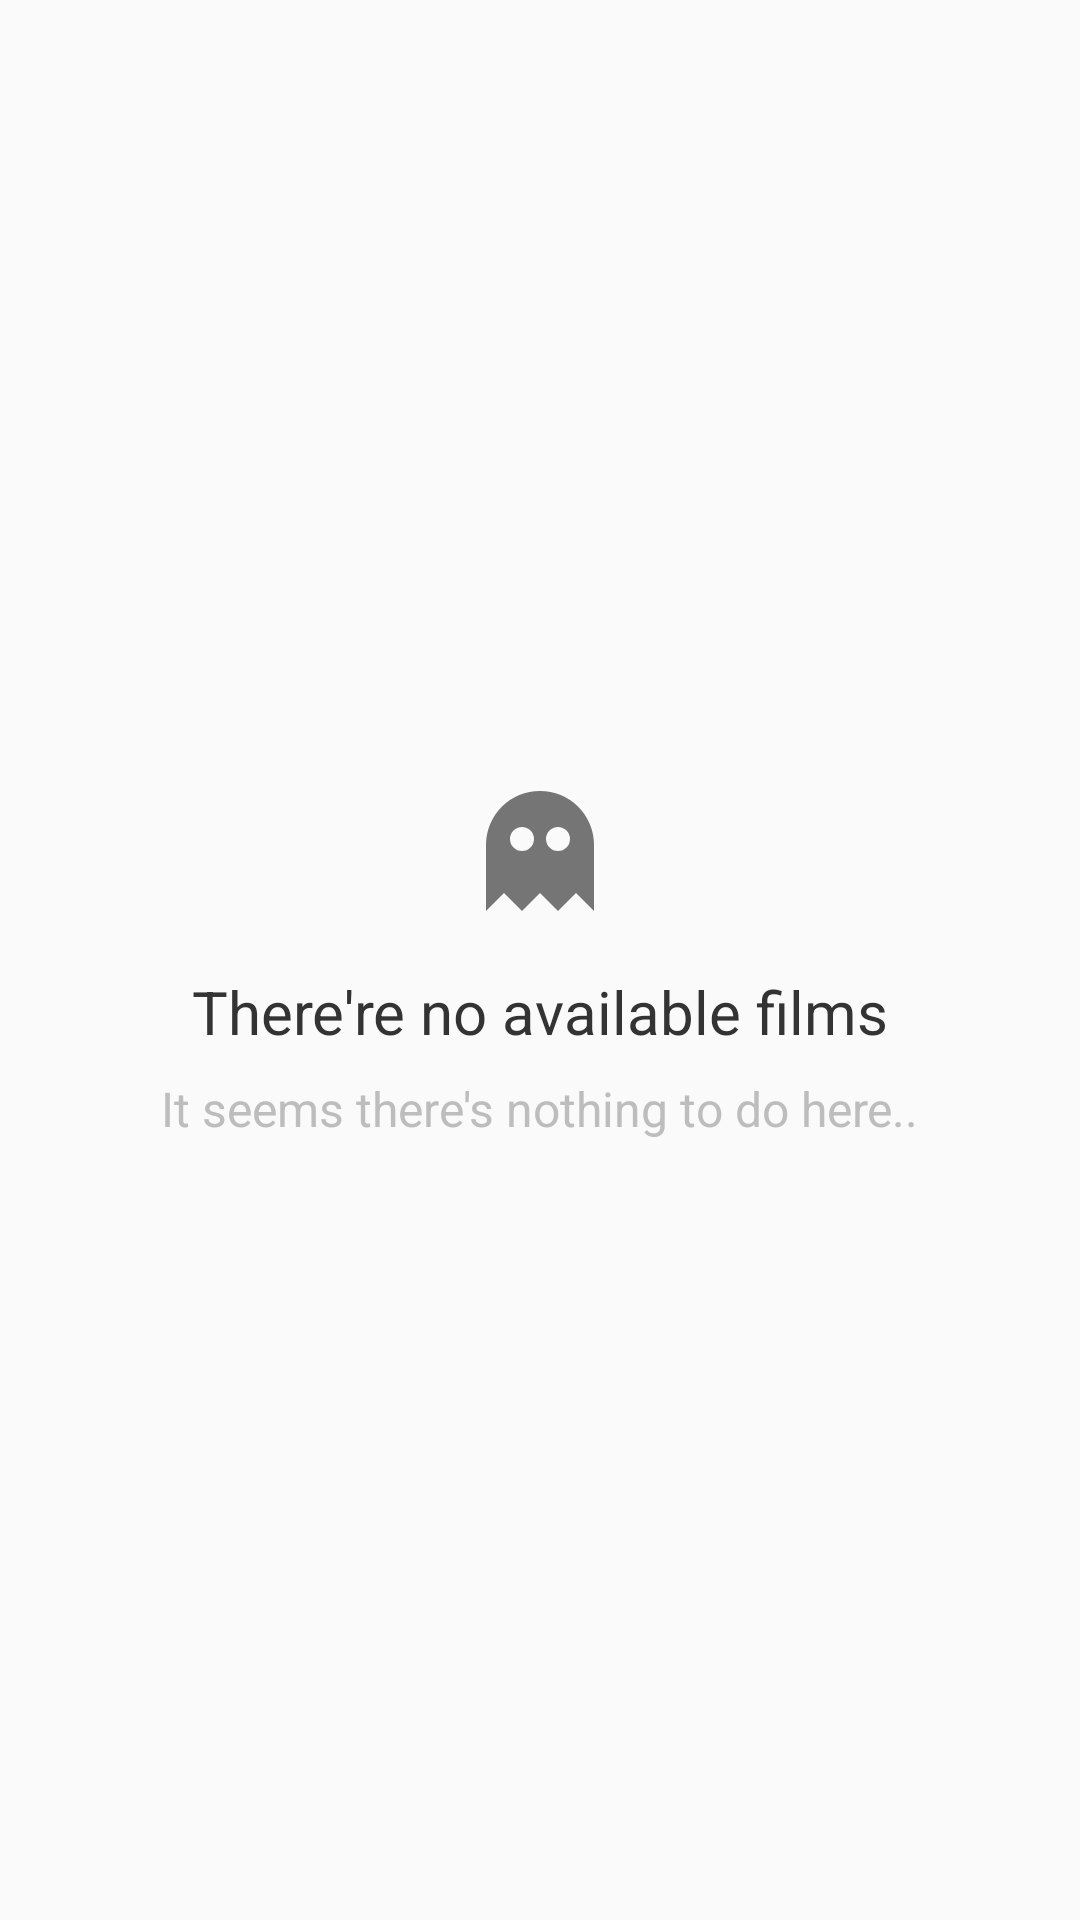

Named icons in this screenshot (1080×1920) and their bounding boxes, bbox=(x1, y1, x2, y2):
ghost: bbox=(486, 791, 594, 911)
